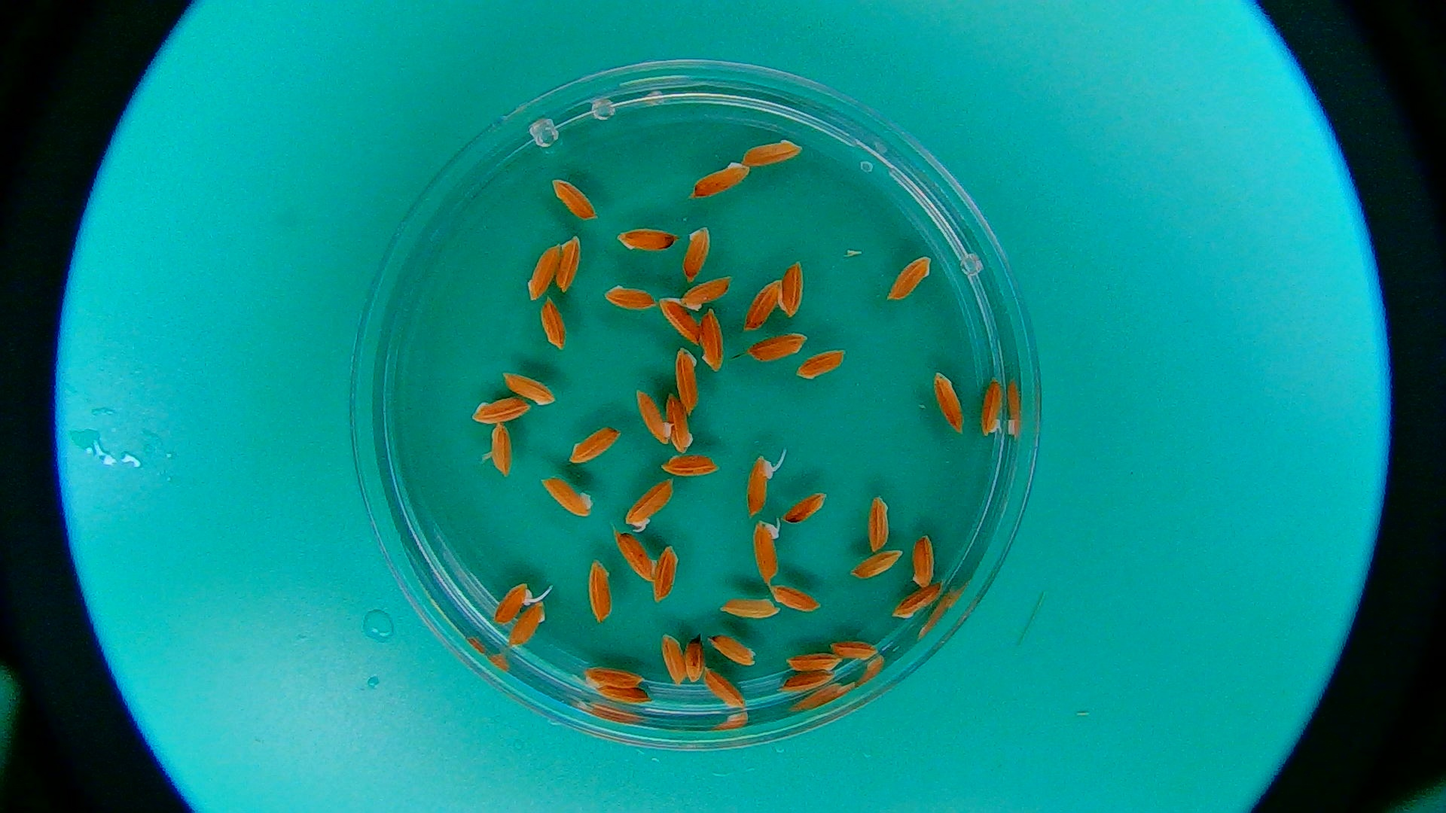no: (634, 383, 676, 446), (540, 474, 596, 520), (685, 160, 751, 199), (884, 254, 933, 302), (931, 370, 966, 434), (613, 530, 655, 583), (550, 176, 599, 221), (566, 425, 622, 464), (703, 665, 749, 711), (585, 556, 614, 625), (525, 245, 559, 299), (505, 370, 556, 406), (747, 332, 810, 361), (674, 346, 700, 416), (698, 309, 726, 373), (581, 664, 644, 692), (745, 279, 781, 327), (657, 297, 693, 345), (797, 350, 849, 383), (614, 227, 678, 253), (660, 452, 724, 478), (743, 139, 804, 166), (655, 544, 682, 604), (682, 276, 731, 309), (682, 226, 710, 282), (770, 582, 822, 612), (709, 635, 759, 666), (891, 585, 935, 619), (659, 630, 685, 687), (780, 259, 805, 318), (782, 492, 831, 522), (540, 296, 566, 352), (601, 285, 657, 311), (473, 398, 531, 423), (911, 531, 936, 589), (670, 396, 696, 451), (557, 237, 582, 294), (868, 492, 892, 551), (489, 424, 514, 480), (512, 601, 545, 643), (718, 598, 778, 621), (853, 551, 902, 579), (593, 684, 653, 706), (683, 633, 706, 685), (827, 638, 877, 659), (782, 670, 834, 690), (787, 652, 842, 669)
yes: (624, 480, 676, 536), (749, 519, 782, 583), (493, 582, 535, 626), (745, 457, 775, 517), (981, 377, 1005, 438)
